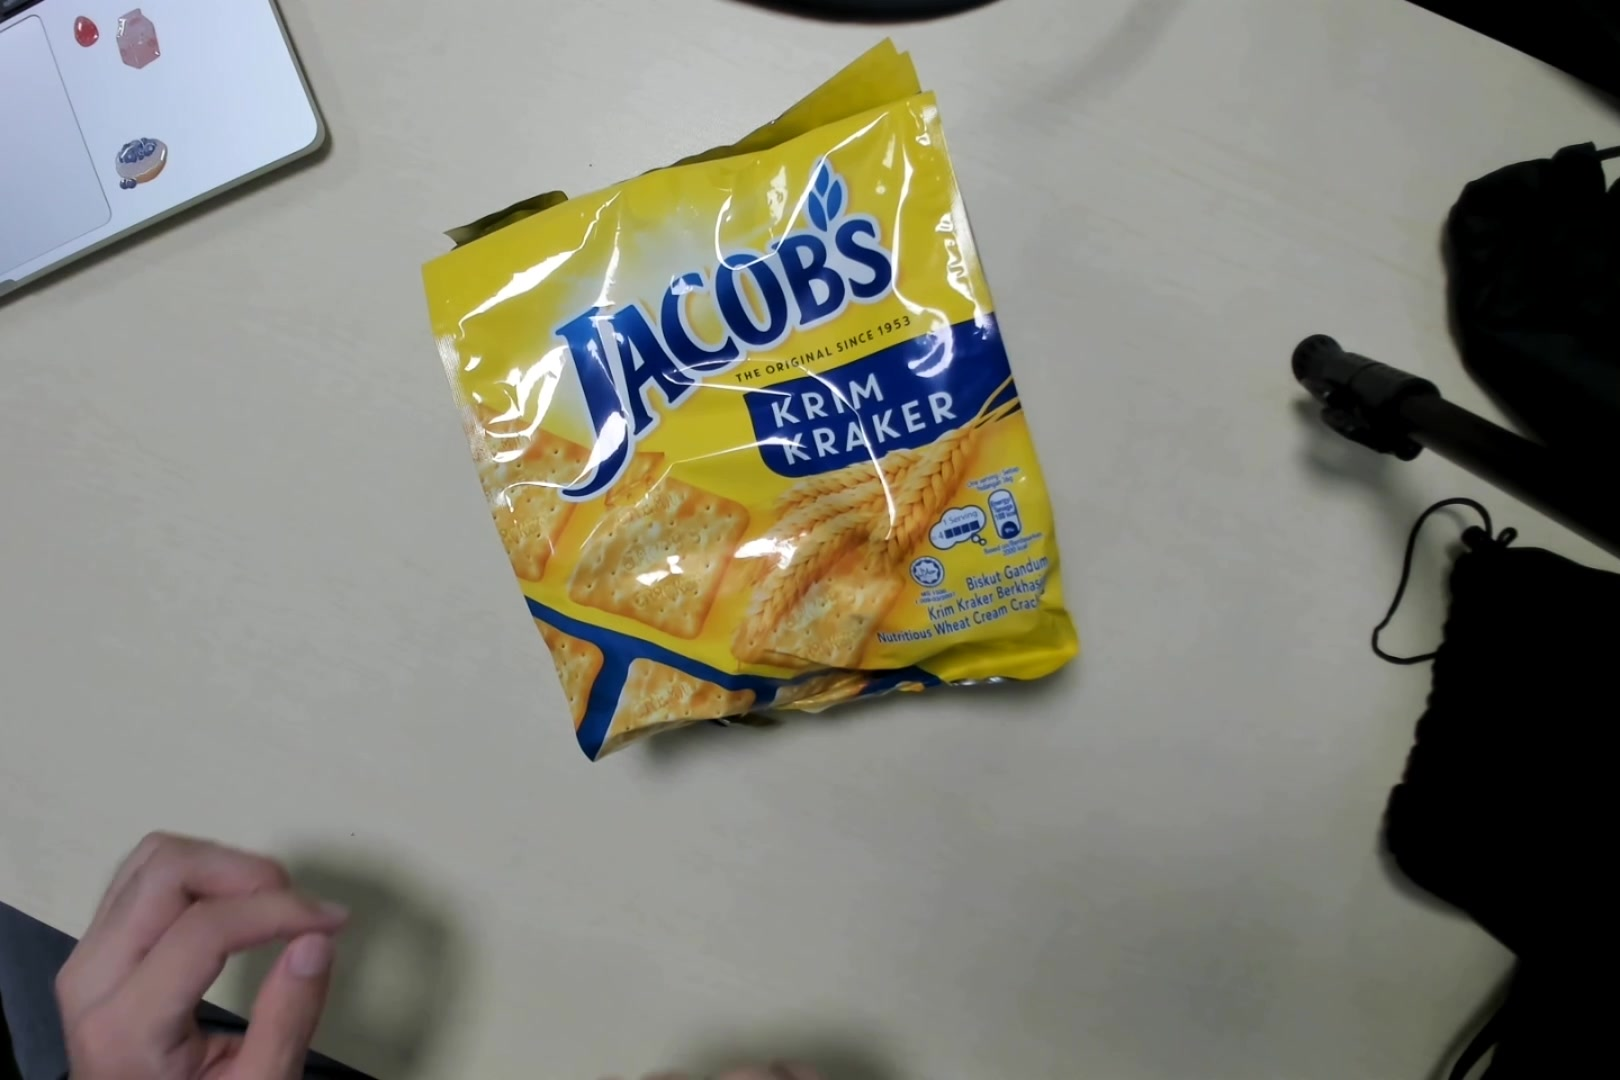BiscuitCrackersCookies_500-599g_Halal_NonHealthy: (433, 67, 1080, 755)
